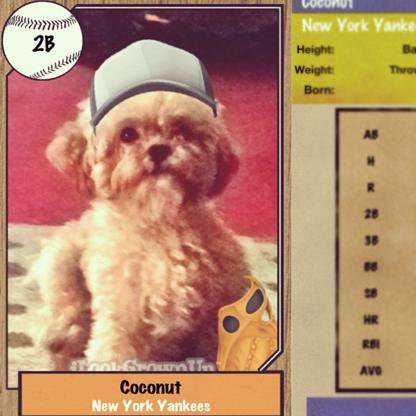Ball: (0, 0, 84, 80)
